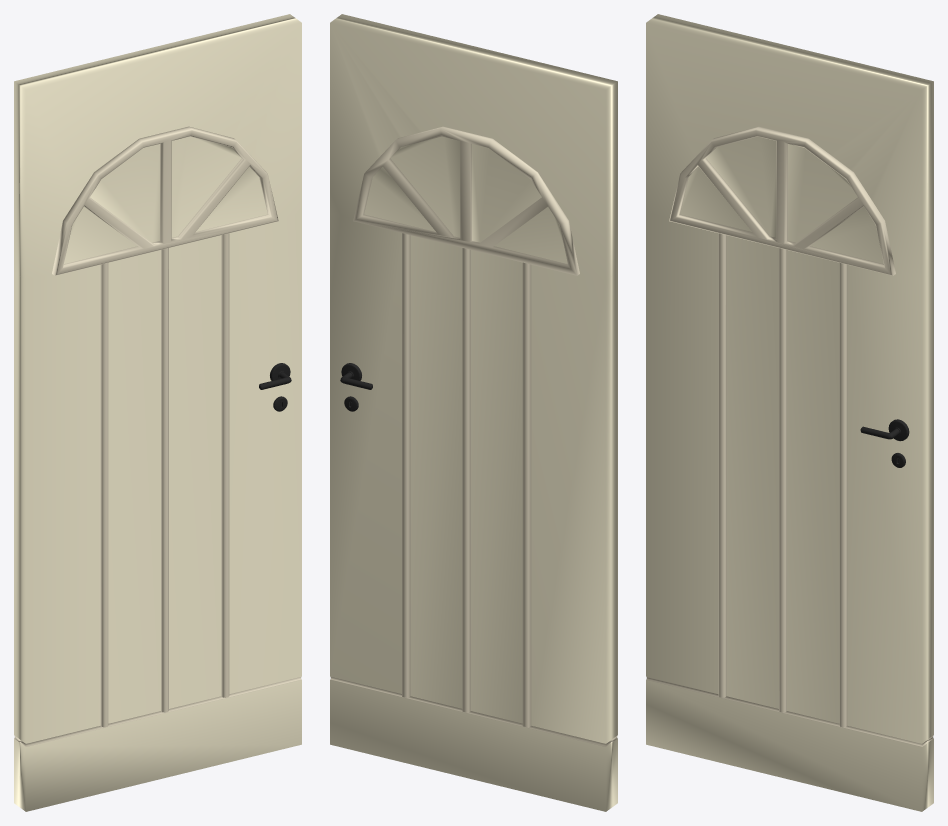
The model's file is 2392860f-9413-4159-8cfb-609e88321608.glb.
3 renders of one model, left to right at view 1: azimuth 30°, elevation 25°; view 2: azimuth 150°, elevation 25°; view 3: azimuth 330°, elevation 25°, orthographic.
Parts seen in each view (by area): view 1: Door.004; view 2: Door.004; view 3: Door.004.
Boxes of the visible parts, x1,y1,x2,y2 form: Door.004: (14, 14, 301, 811); Door.004: (330, 14, 617, 811); Door.004: (646, 14, 933, 811).
Size of what is drawn, in the model's own units: 0.8628 by 2.16 by 0.1816.
Materials: 2 (2 with a texture image).
